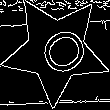O_SW: (24, 18, 88, 82)
